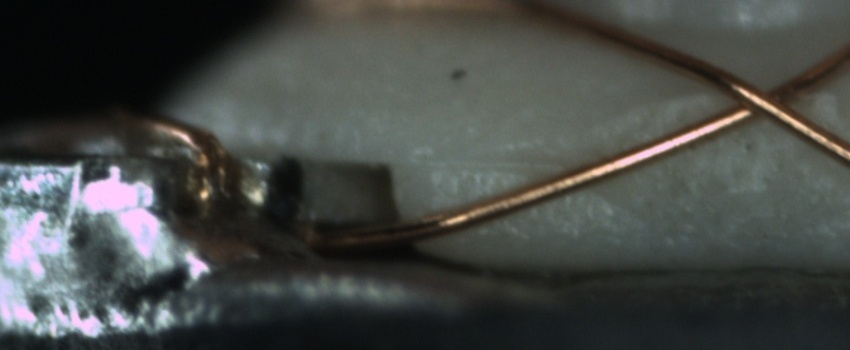CL: (705, 62, 817, 134)
DL: (418, 131, 576, 195)
TE: (109, 101, 245, 213)
